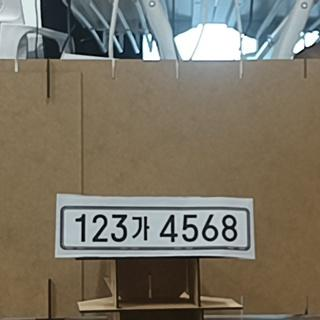normal: (60, 206, 250, 251)
